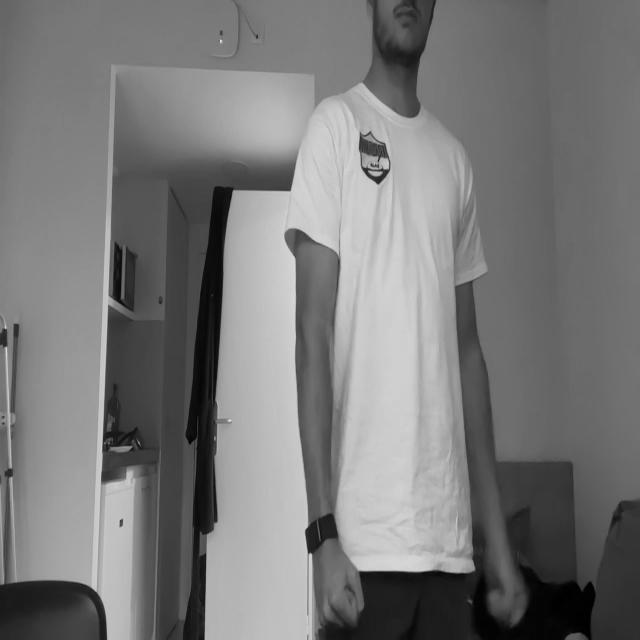elbow: (291, 320, 331, 380), (456, 329, 486, 389)
hand: (314, 548, 364, 630), (484, 541, 528, 628)
shoulder: (302, 100, 343, 189), (449, 146, 475, 226)
